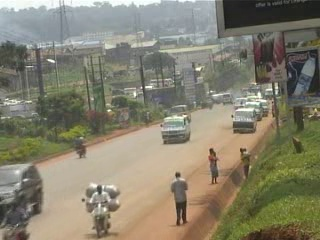Car: (0, 160, 47, 217)
Motorcycle: (78, 180, 120, 236), (1, 204, 34, 239), (72, 132, 93, 161), (203, 96, 213, 109)
